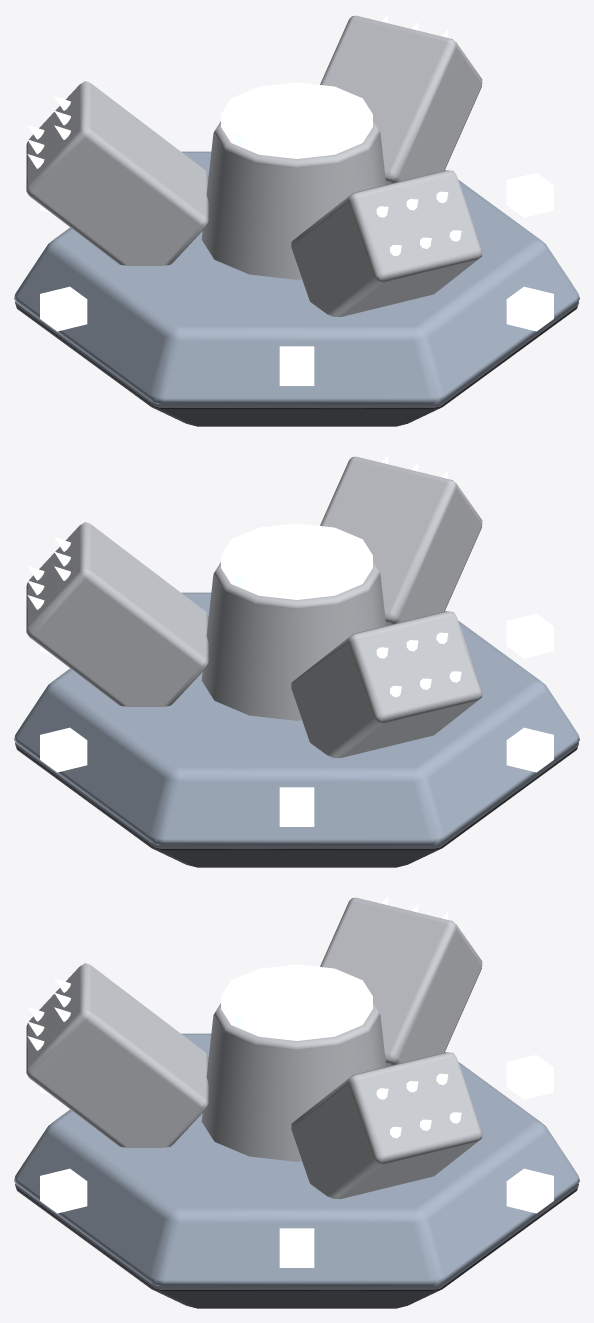
File: missile.glb
3 views of the same model, one above another, from view 1: azimuth 30°, elevation 25°; view 2: azimuth 150°, elevation 25°; view 3: azimuth 270°, elevation 25° (orthographic).
Parts seen in each view (by area): view 1: missile; view 2: missile; view 3: missile.
Boxes of the visible parts, x1,y1,x2,y2 form: missile: [14, 14, 579, 426]; missile: [14, 455, 579, 867]; missile: [14, 896, 579, 1308].
Bounding box in the file's own units: 0.83 × 0.3958 × 0.8194.
